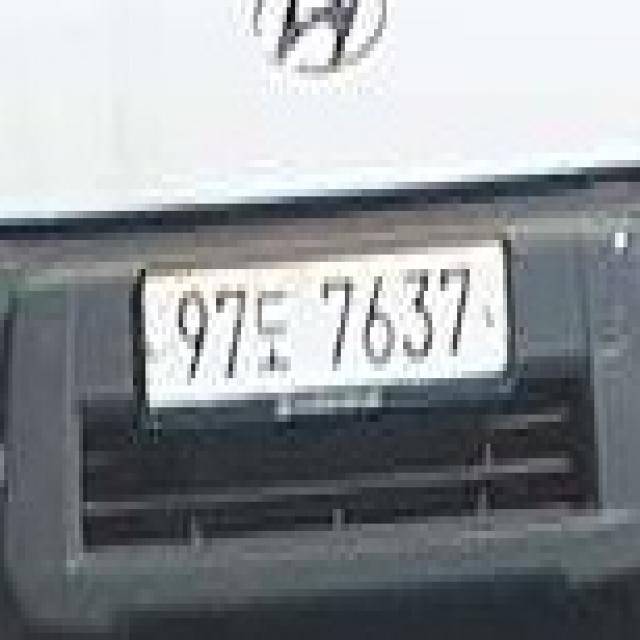3: (400, 262, 434, 368)
6: (364, 266, 396, 378)
7: (314, 268, 354, 374), (438, 262, 478, 364), (216, 281, 250, 379)
9: (178, 280, 211, 384)
do: (251, 278, 294, 380)
license_plate: (140, 234, 512, 428)
